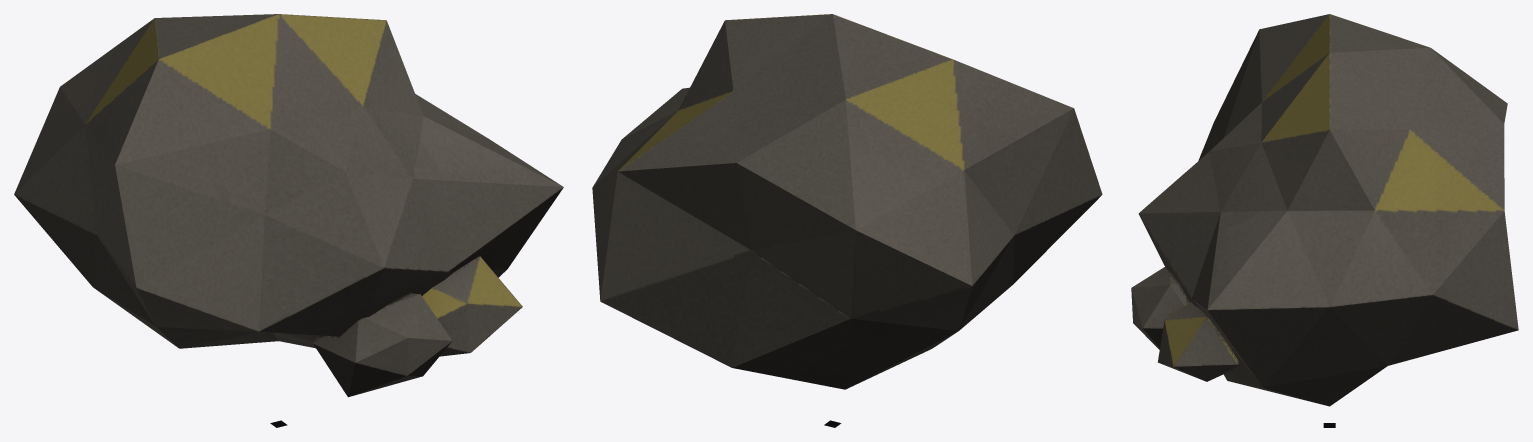
File: feature_rock_1.fbx
The picture shows the model from 3 angles, left to right: view 1: azimuth 30°, elevation 25°; view 2: azimuth 150°, elevation 25°; view 3: azimuth 270°, elevation 25°; orthographic projection. The views are drawn at different scales.
Parts seen in each view (by area): view 1: base_bar; view 2: base_bar; view 3: base_bar.
Boxes of the visible parts, <box> form: base_bar: <box>14,14,563,397</box>; base_bar: <box>592,14,1102,389</box>; base_bar: <box>1131,14,1518,406</box>.
Size of the model in its own units: 748 by 692 by 652.
2 materials, 2 textured.
